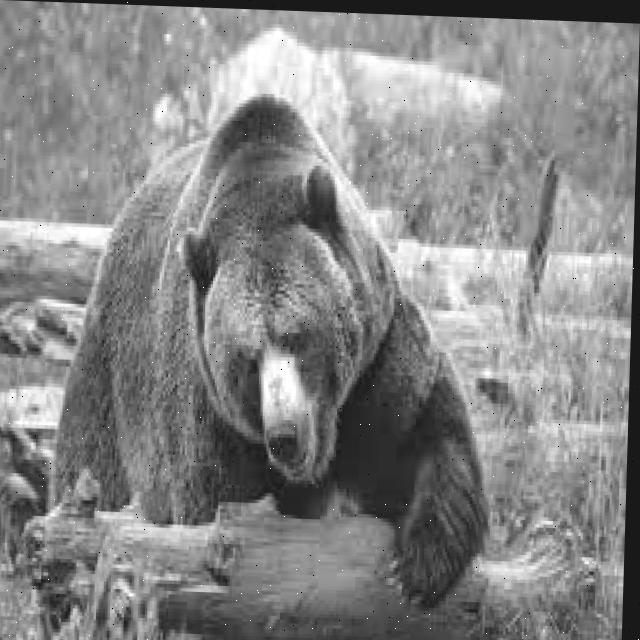Bear: (51, 87, 498, 614)
